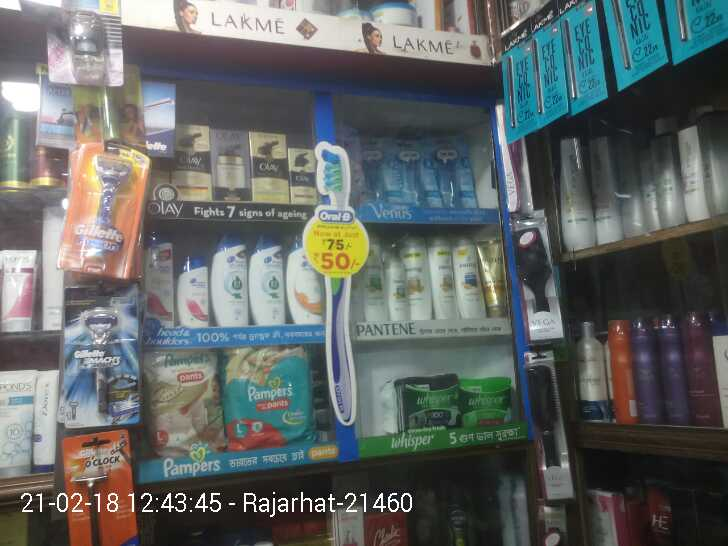gillete: (64, 286, 136, 428), (67, 143, 137, 276), (63, 429, 135, 546)
venus: (392, 140, 435, 207), (435, 137, 470, 207), (356, 143, 388, 205)
